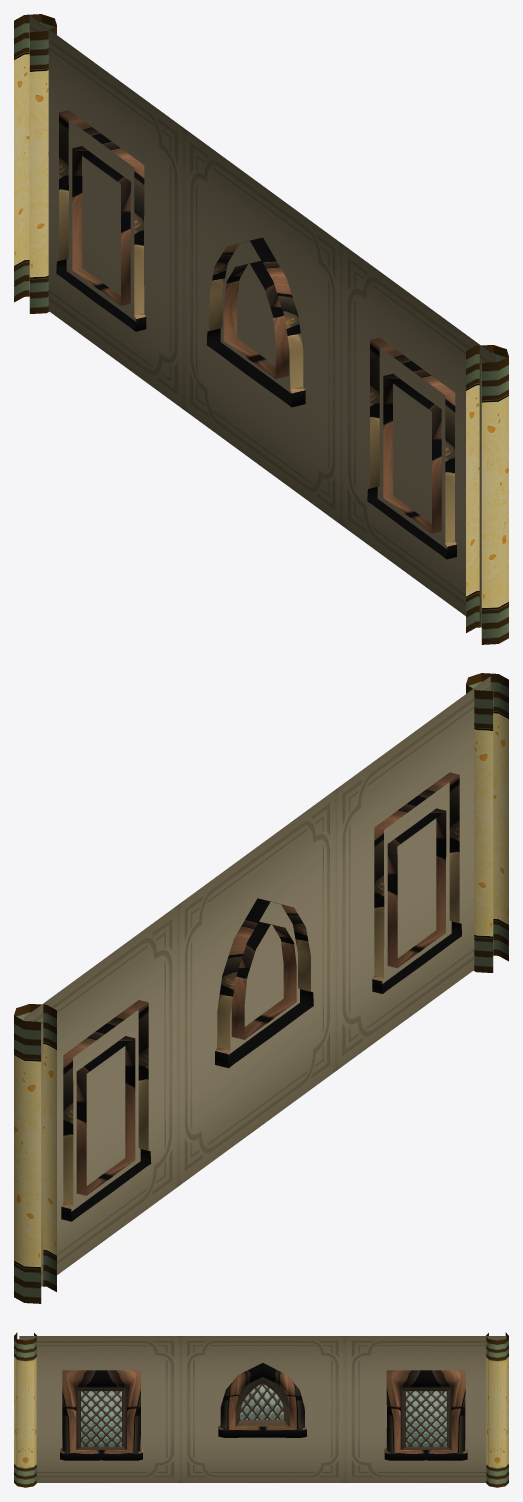
The model's file is IceMaze_Wall03.fbx.
3 renders of one model, top to bottom at view 1: azimuth 30°, elevation 25°; view 2: azimuth 150°, elevation 25°; view 3: azimuth 270°, elevation 25°, orthographic. The views are drawn at different scales.
Parts seen in each view (by area): view 1: WallMesh, LightL, LightR, WindowR, WindowL, WIndowCentre; view 2: WallMesh, LightR, LightL, WindowR, WindowL, WIndowCentre; view 3: WallMesh, WindowR, WindowL, WIndowCentre, LightL, LightR.
Boxes of the visible parts, x1,y1,x2,y2 form: WallMesh: (29, 15, 495, 627); LightL: (466, 345, 508, 644); LightR: (14, 14, 56, 313); WindowR: (56, 110, 146, 331); WindowL: (367, 337, 456, 559); WIndowCentre: (206, 237, 305, 407); WallMesh: (24, 676, 490, 1286); LightR: (14, 1004, 56, 1303); LightL: (466, 673, 508, 972); WindowR: (61, 1000, 151, 1221); WindowL: (372, 772, 461, 993); WIndowCentre: (215, 898, 313, 1068); WallMesh: (19, 1336, 506, 1482); WindowR: (384, 1370, 467, 1460); WindowL: (60, 1370, 142, 1460); WIndowCentre: (218, 1363, 306, 1437); LightL: (14, 1332, 36, 1487); LightR: (486, 1332, 508, 1487).
Bounding box in the file's own units: 0.8425 × 6.02 × 18.29.
